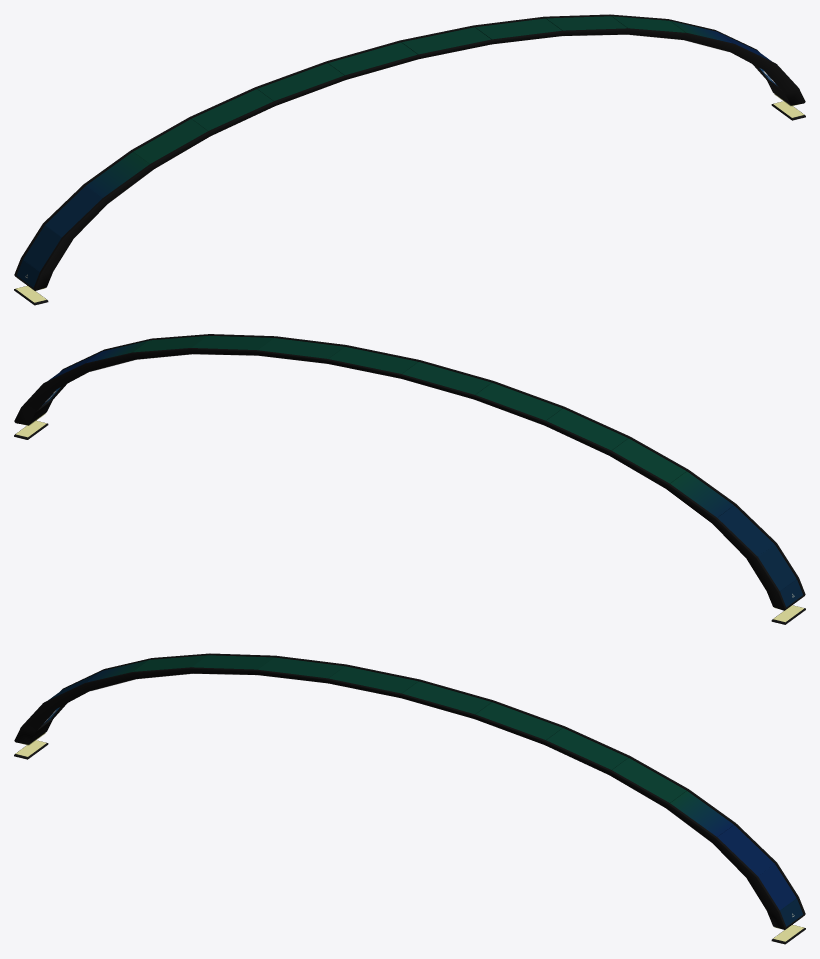
Rendered from W_O_Forum_Decor_001_L0.fbx.
The picture shows the model from 3 angles, top to bottom: view 1: azimuth 30°, elevation 25°; view 2: azimuth 150°, elevation 25°; view 3: azimuth 330°, elevation 25°; orthographic projection.
Visible parts, largest first — view 1: W_O_Forum_Decor_001_L0; view 2: W_O_Forum_Decor_001_L0; view 3: W_O_Forum_Decor_001_L0.
Boxes of the visible parts, <box> form: W_O_Forum_Decor_001_L0: <box>14,14,805,305</box>; W_O_Forum_Decor_001_L0: <box>14,334,805,624</box>; W_O_Forum_Decor_001_L0: <box>14,653,805,944</box>.
Bounding box in the file's own units: 48.01 × 9.27 × 2.24.
